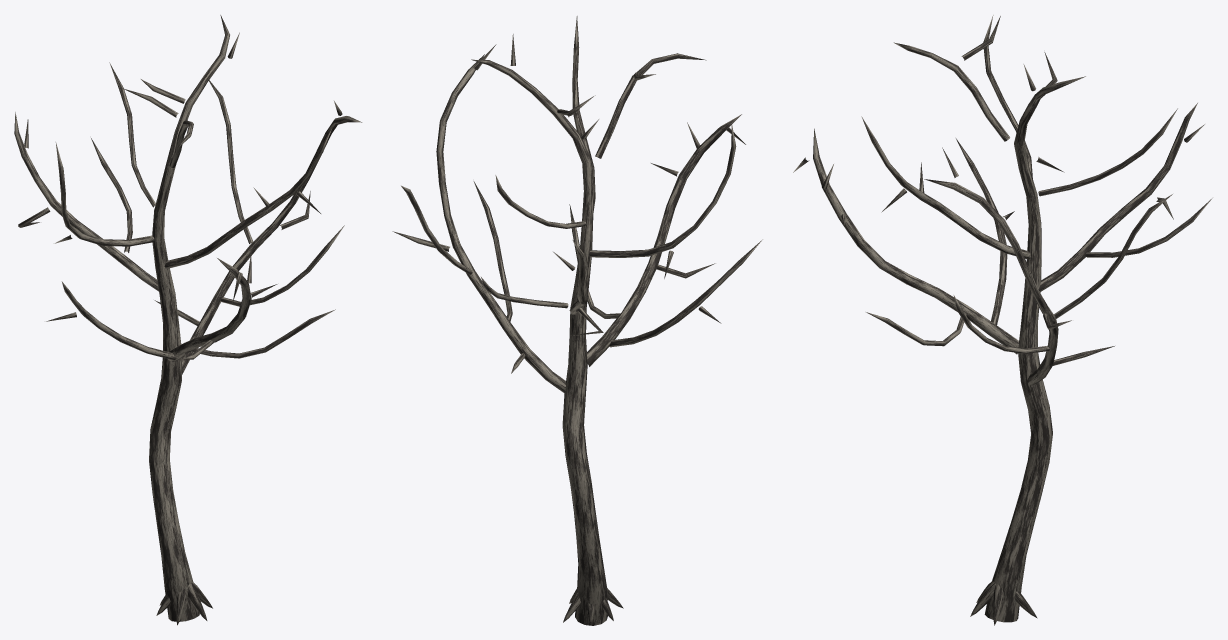
The model's file is tree-dead-a.glb.
3 views of the same model, side by side, from view 1: azimuth 30°, elevation 25°; view 2: azimuth 150°, elevation 25°; view 3: azimuth 270°, elevation 25° (orthographic). The views are drawn at different scales.
Parts seen in each view (by area): view 1: Tree_Dead_A; view 2: Tree_Dead_A; view 3: Tree_Dead_A.
Boxes of the visible parts, x1,y1,x2,y2 form: Tree_Dead_A: (14, 15, 362, 625); Tree_Dead_A: (392, 16, 762, 625); Tree_Dead_A: (793, 15, 1212, 625).
Bounding box in the file's own units: 4.81 × 8.47 × 5.48.
1 material, 1 textured.
